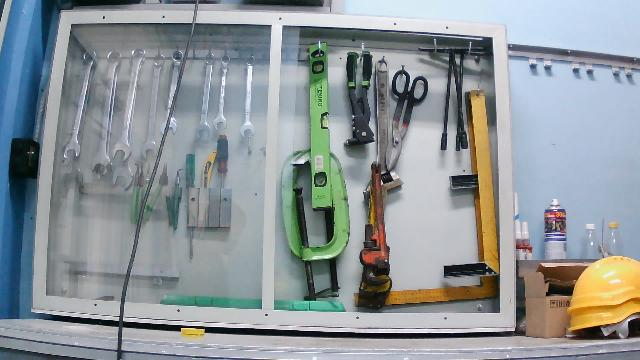water_pass: (307, 39, 334, 213)
